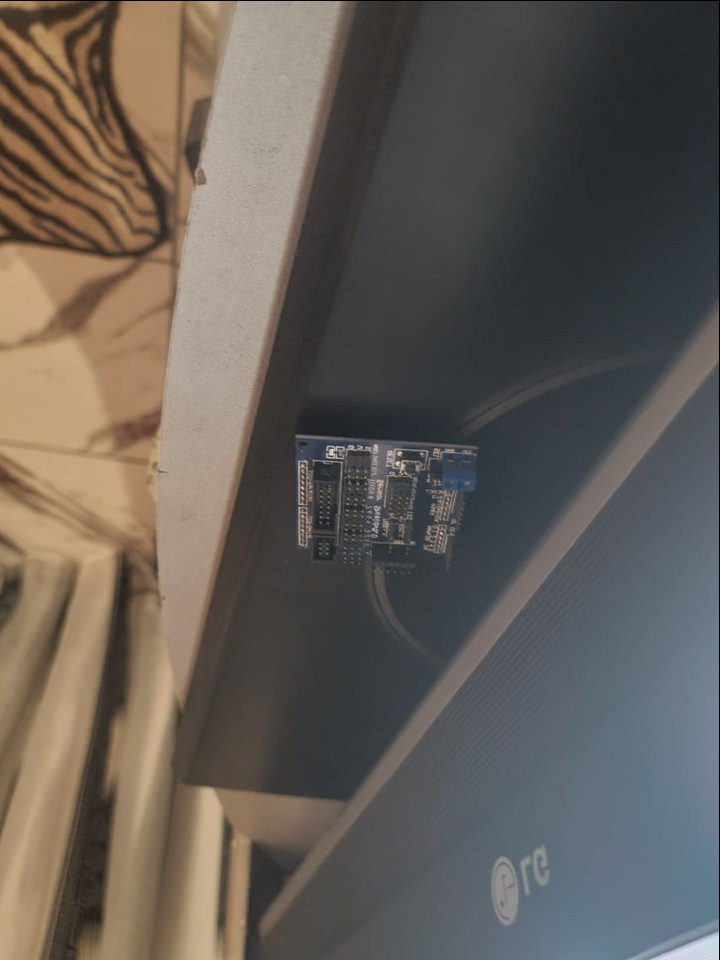5V EXPANSION: (290, 434, 480, 576)
